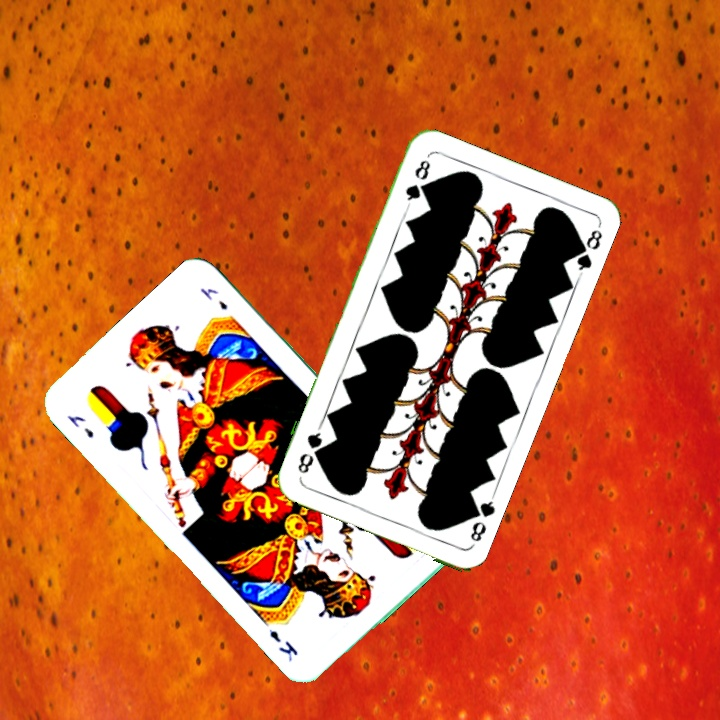EK: (63, 411, 97, 441)
G8: (463, 492, 498, 545), (401, 155, 433, 209)
